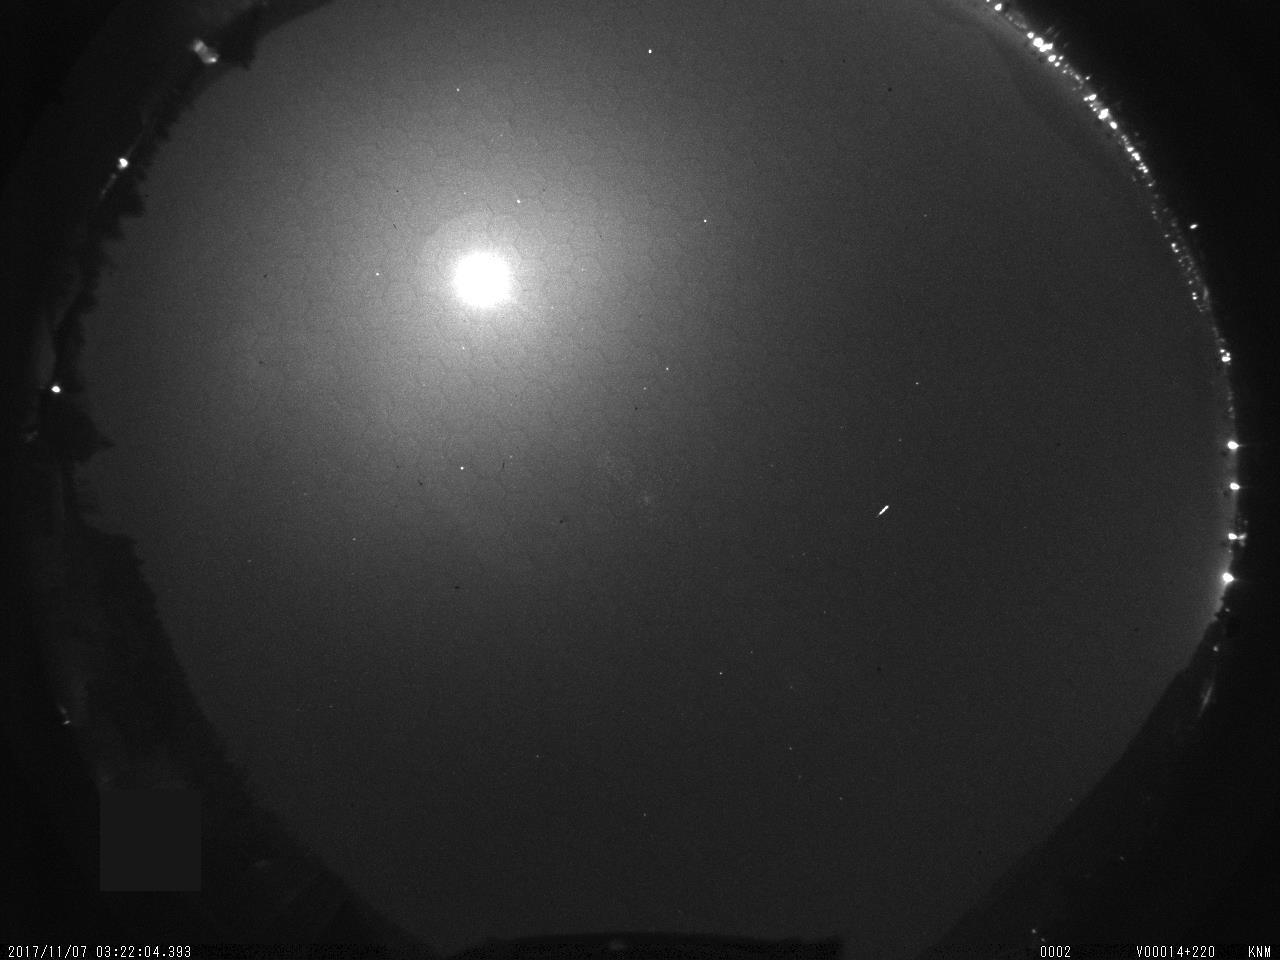Meteor: (868, 491, 899, 526)
